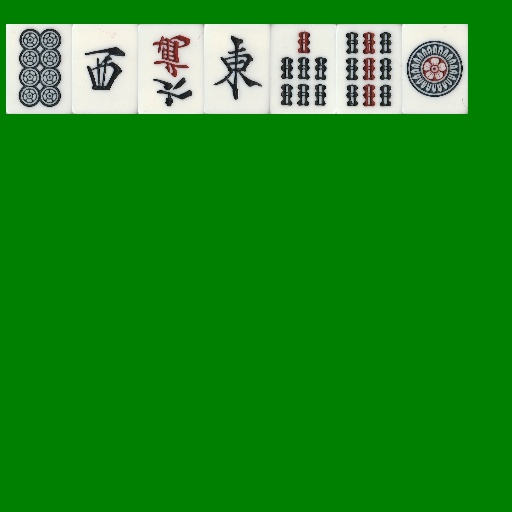1p: (402, 24, 468, 114)
6m: (138, 24, 204, 114)
7s: (270, 24, 336, 114)
8p: (6, 24, 72, 114)
9s: (336, 24, 402, 114)
east: (204, 24, 270, 114)
west: (72, 24, 138, 114)
